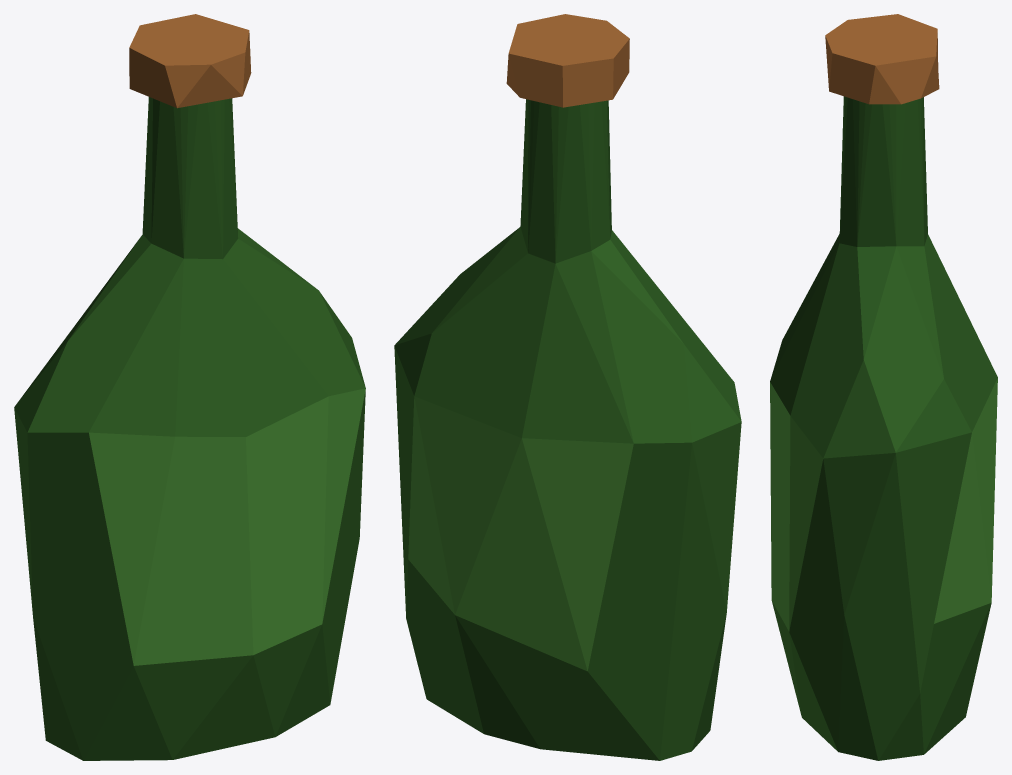
File: Bottle01.fbx
3 views of the same model, side by side, from view 1: azimuth 30°, elevation 25°; view 2: azimuth 150°, elevation 25°; view 3: azimuth 270°, elevation 25° (orthographic). The views are drawn at different scales.
Visible parts, largest first — view 1: Bottle01LowPoly; view 2: Bottle01LowPoly; view 3: Bottle01LowPoly.
Boxes of the visible parts, x1=… form: Bottle01LowPoly: x1=14, y1=14, x2=365, y2=760; Bottle01LowPoly: x1=394, y1=14, x2=741, y2=760; Bottle01LowPoly: x1=770, y1=14, x2=997, y2=760.
Size of the model in its own units: 10.42 by 20.02 by 6.28.
